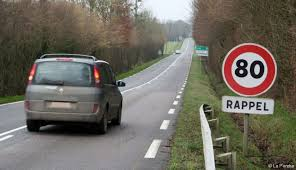Speed_limit_80km: (221, 43, 276, 96)
